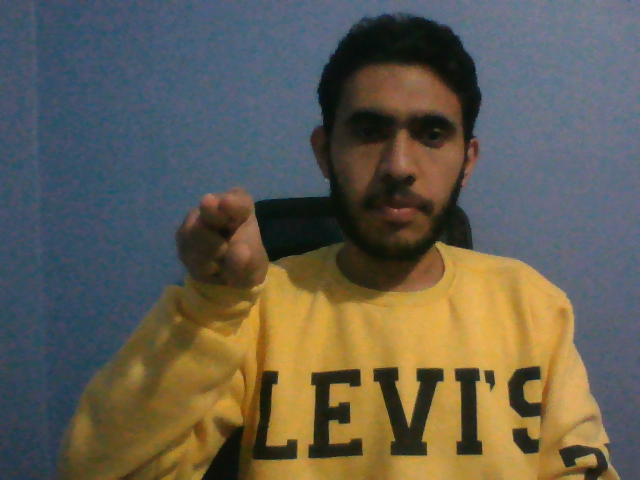no: (166, 183, 272, 303)
